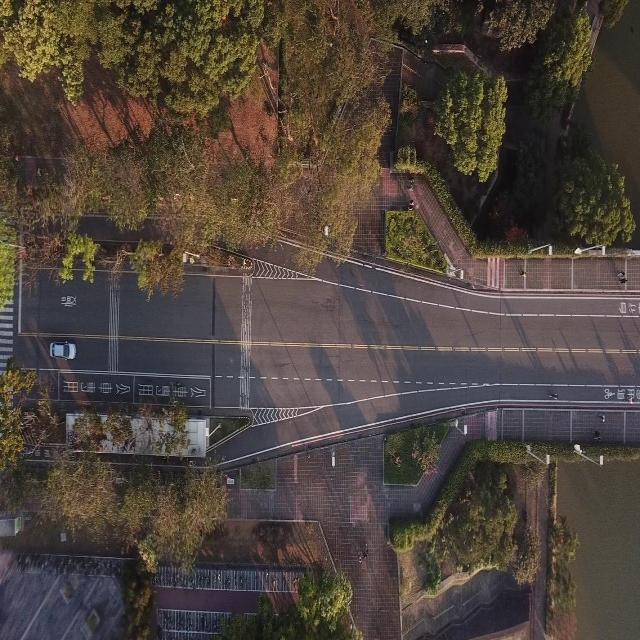bike: (548, 392, 558, 399), (364, 541, 368, 558), (357, 551, 362, 563)
car: (49, 341, 76, 360)
